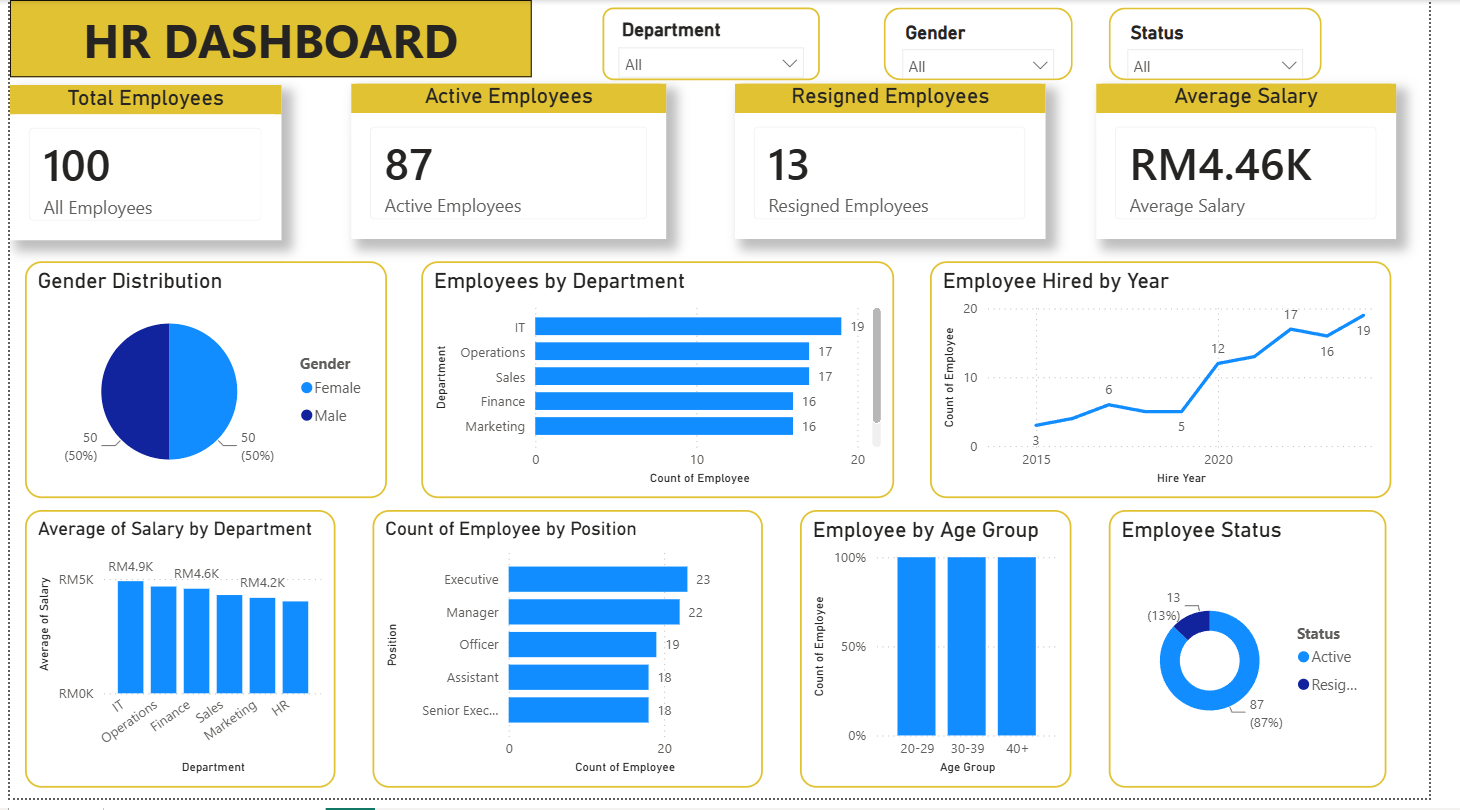

This screenshot's page, from the dashboard's own definition file:
{"tool":"powerbi","page":{"name":"HR_Dashboard_Overview","canvas":[1280,720],"ordinal":1},"visuals":[{"type":"cardVisual","title":"Total Employees","fields":{"Data":["Employee_Data.Total Employees"]},"box":[0,76.1,244.6,140],"z":0},{"type":"cardVisual","title":"Active Employees","fields":{"Data":["Employee_Data.Active Employees"]},"box":[307.4,75.5,284,140],"z":1},{"type":"cardVisual","title":"Resigned Employees","fields":{"Data":["Employee_Data.Resigned Employees"]},"box":[653.2,75.5,279.9,140],"z":2},{"type":"cardVisual","title":"Average Salary","fields":{"Data":["Employee_Data.Average Salary"]},"box":[979.8,75.5,270.3,140],"z":3},{"type":"pieChart","title":"Gender Distribution","fields":{"Category":["Employee_Data.Gender"],"Y":["CountNonNull(Employee_Data.Employee )"]},"box":[13.6,235.1,326.2,213.4],"z":5},{"type":"clusteredBarChart","title":" Employees  by Department","fields":{"Category":["Employee_Data.Department"],"Y":["CountNonNull(Employee_Data.Employee )"]},"box":[371,235.1,426.8,213.4],"z":6},{"type":"clusteredColumnChart","fields":{"Category":["Employee_Data.Department"],"Y":["Avg(Employee_Data.Salary)"]},"box":[13.6,459.4,280,250.1],"z":7},{"type":"lineChart","title":"Employee Hired by Year","fields":{"Category":["Employee_Data.Hire Year"],"Y":["CountNonNull(Employee_Data.Employee )"]},"box":[829.1,235.1,415.9,213.4],"z":8},{"type":"textbox","box":[0,0,470.7,69.4],"z":9},{"type":"donutChart","title":" Employee Status","fields":{"Category":["Employee_Data.Status"],"Y":["CountNonNull(Employee_Data.Employee )"]},"box":[990.8,459.4,250.1,250.1],"z":10},{"type":"hundredPercentStackedColumnChart","title":" Employee  by Age Group","fields":{"Category":["Employee_Data.Age Group"],"Y":["CountNonNull(Employee_Data.Employee )"]},"box":[712.6,459.4,244.6,250.1],"z":11},{"type":"barChart","fields":{"Category":["Employee_Data.Position"],"Y":["CountNonNull(Employee_Data.Employee )"]},"box":[327.1,459.4,352,250.1],"z":12},{"type":"slicer","fields":{"Values":["Employee_Data.Department"]},"box":[534.7,6.8,195.9,65.3],"z":13},{"type":"slicer","fields":{"Values":["Employee_Data.Gender"]},"box":[787.8,6.8,170.1,65.3],"z":14},{"type":"slicer","fields":{"Values":["Employee_Data.Status"]},"box":[990.5,6.8,191.8,65.3],"z":15}]}

Visuals, with their boxes in screenshot pixels (x1, y1, x2, y2), scaled from the page's 1280x720 canvas onto the 1460x810 screenshot:
"Total Employees" cardVisual: l=0, t=86, r=279, b=243
"Active Employees" cardVisual: l=351, t=85, r=675, b=242
"Resigned Employees" cardVisual: l=745, t=85, r=1064, b=242
"Average Salary" cardVisual: l=1118, t=85, r=1426, b=242
"Gender Distribution" pieChart: l=16, t=264, r=388, b=505
" Employees  by Department" clusteredBarChart: l=423, t=264, r=910, b=505
clusteredColumnChart - Employee_Data.Department x Avg(Employee_Data.Salary): l=16, t=517, r=335, b=798
"Employee Hired by Year" lineChart: l=946, t=264, r=1420, b=505
textbox: l=0, t=0, r=537, b=78
" Employee Status" donutChart: l=1130, t=517, r=1415, b=798
" Employee  by Age Group" hundredPercentStackedColumnChart: l=813, t=517, r=1092, b=798
barChart - Employee_Data.Position x CountNonNull(Employee_Data.Employee ): l=373, t=517, r=775, b=798
slicer - Employee_Data.Department: l=610, t=8, r=833, b=81
slicer - Employee_Data.Gender: l=899, t=8, r=1093, b=81
slicer - Employee_Data.Status: l=1130, t=8, r=1349, b=81
